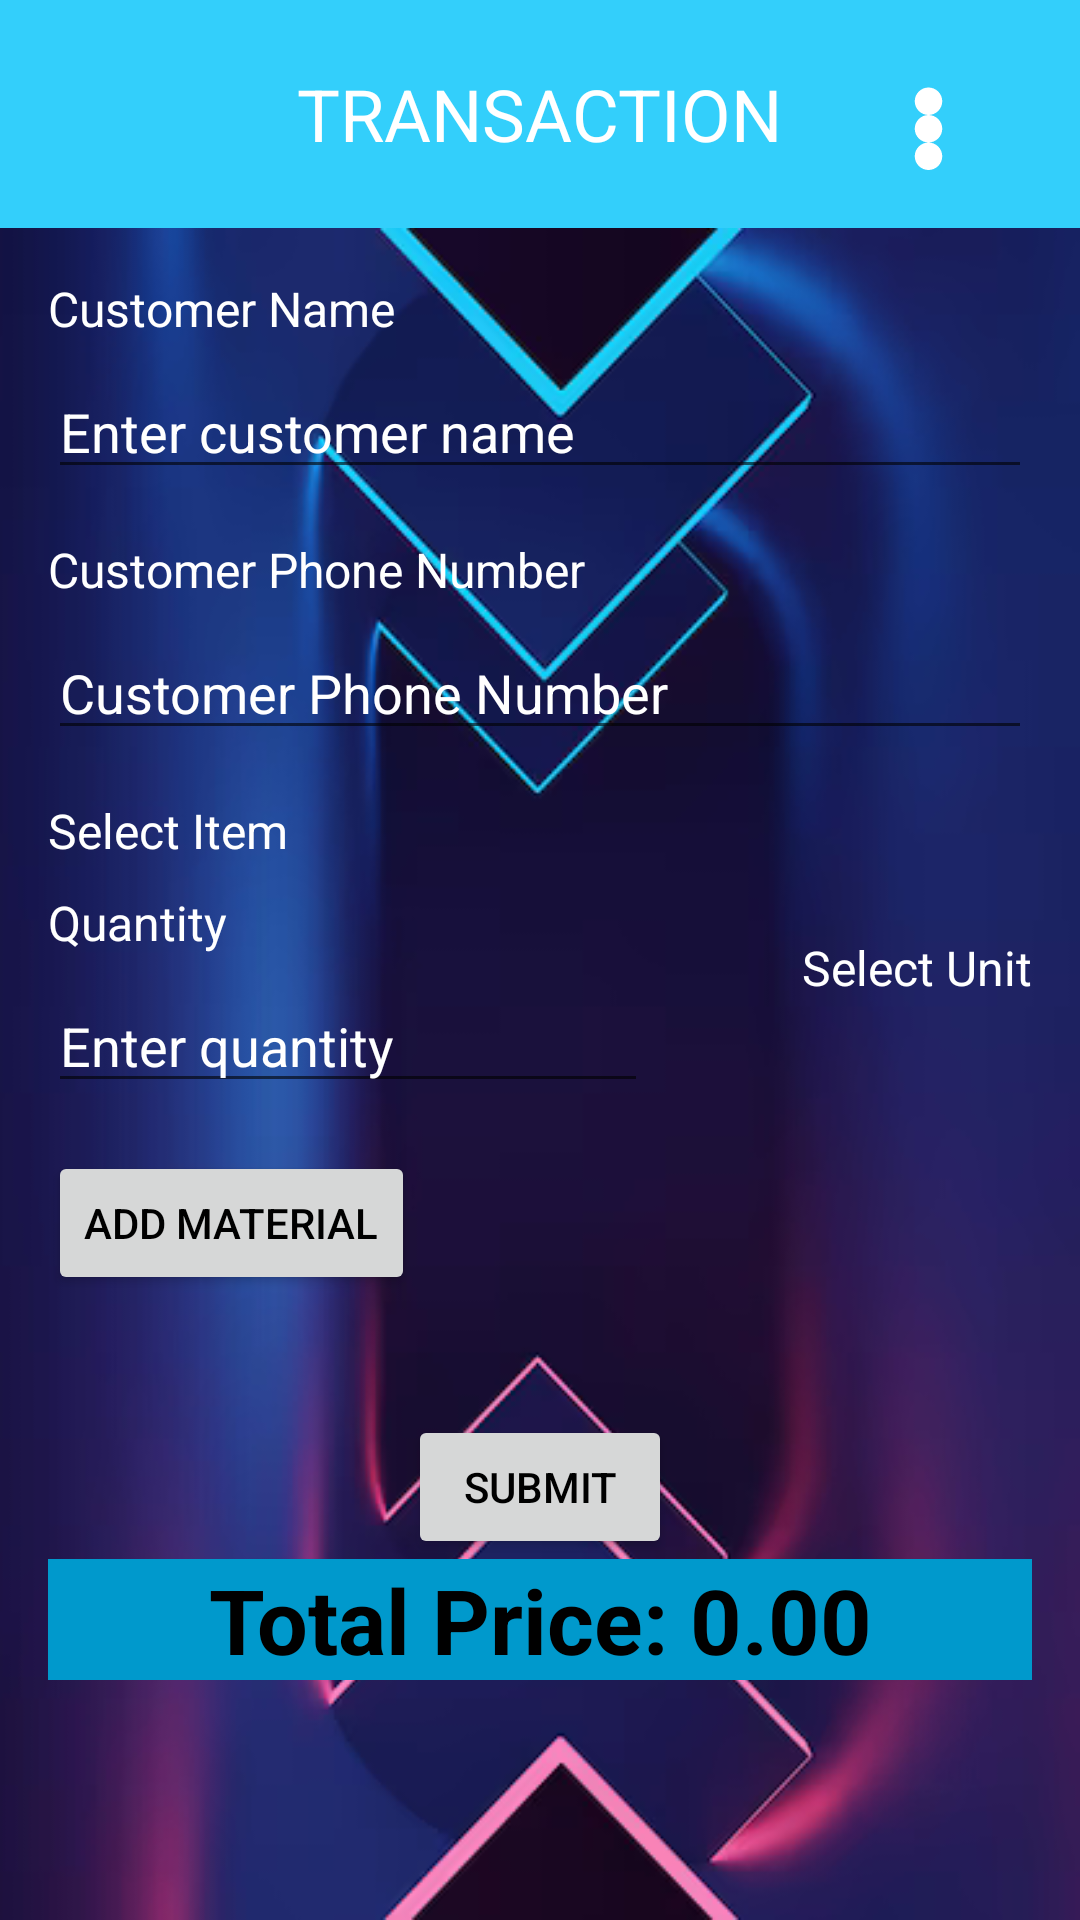

Icons on this 1080x1920 Android screen, each with its box as (x1, y1, x2, y2):
Menu: (914, 87, 943, 170)
